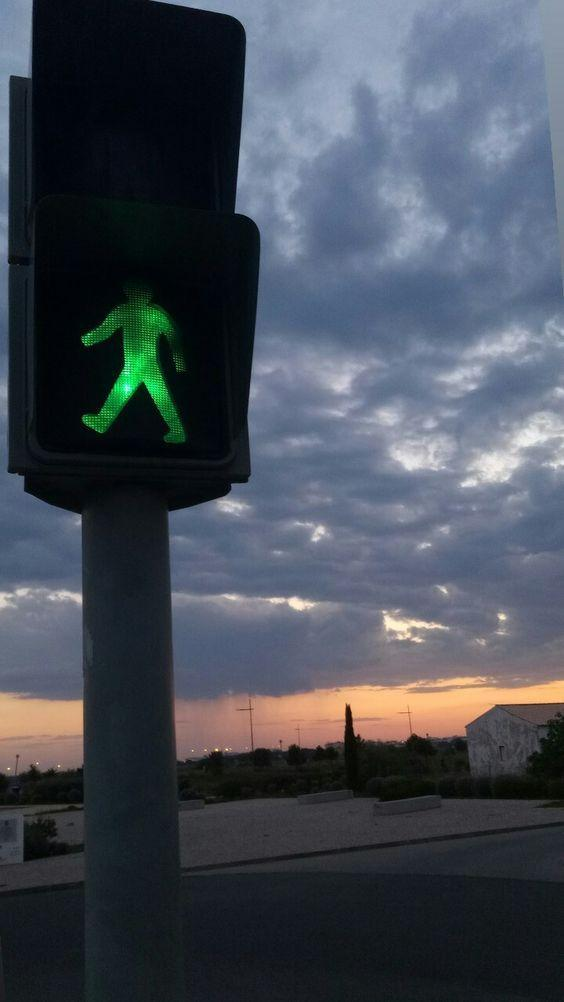green: (0, 0, 292, 525)
